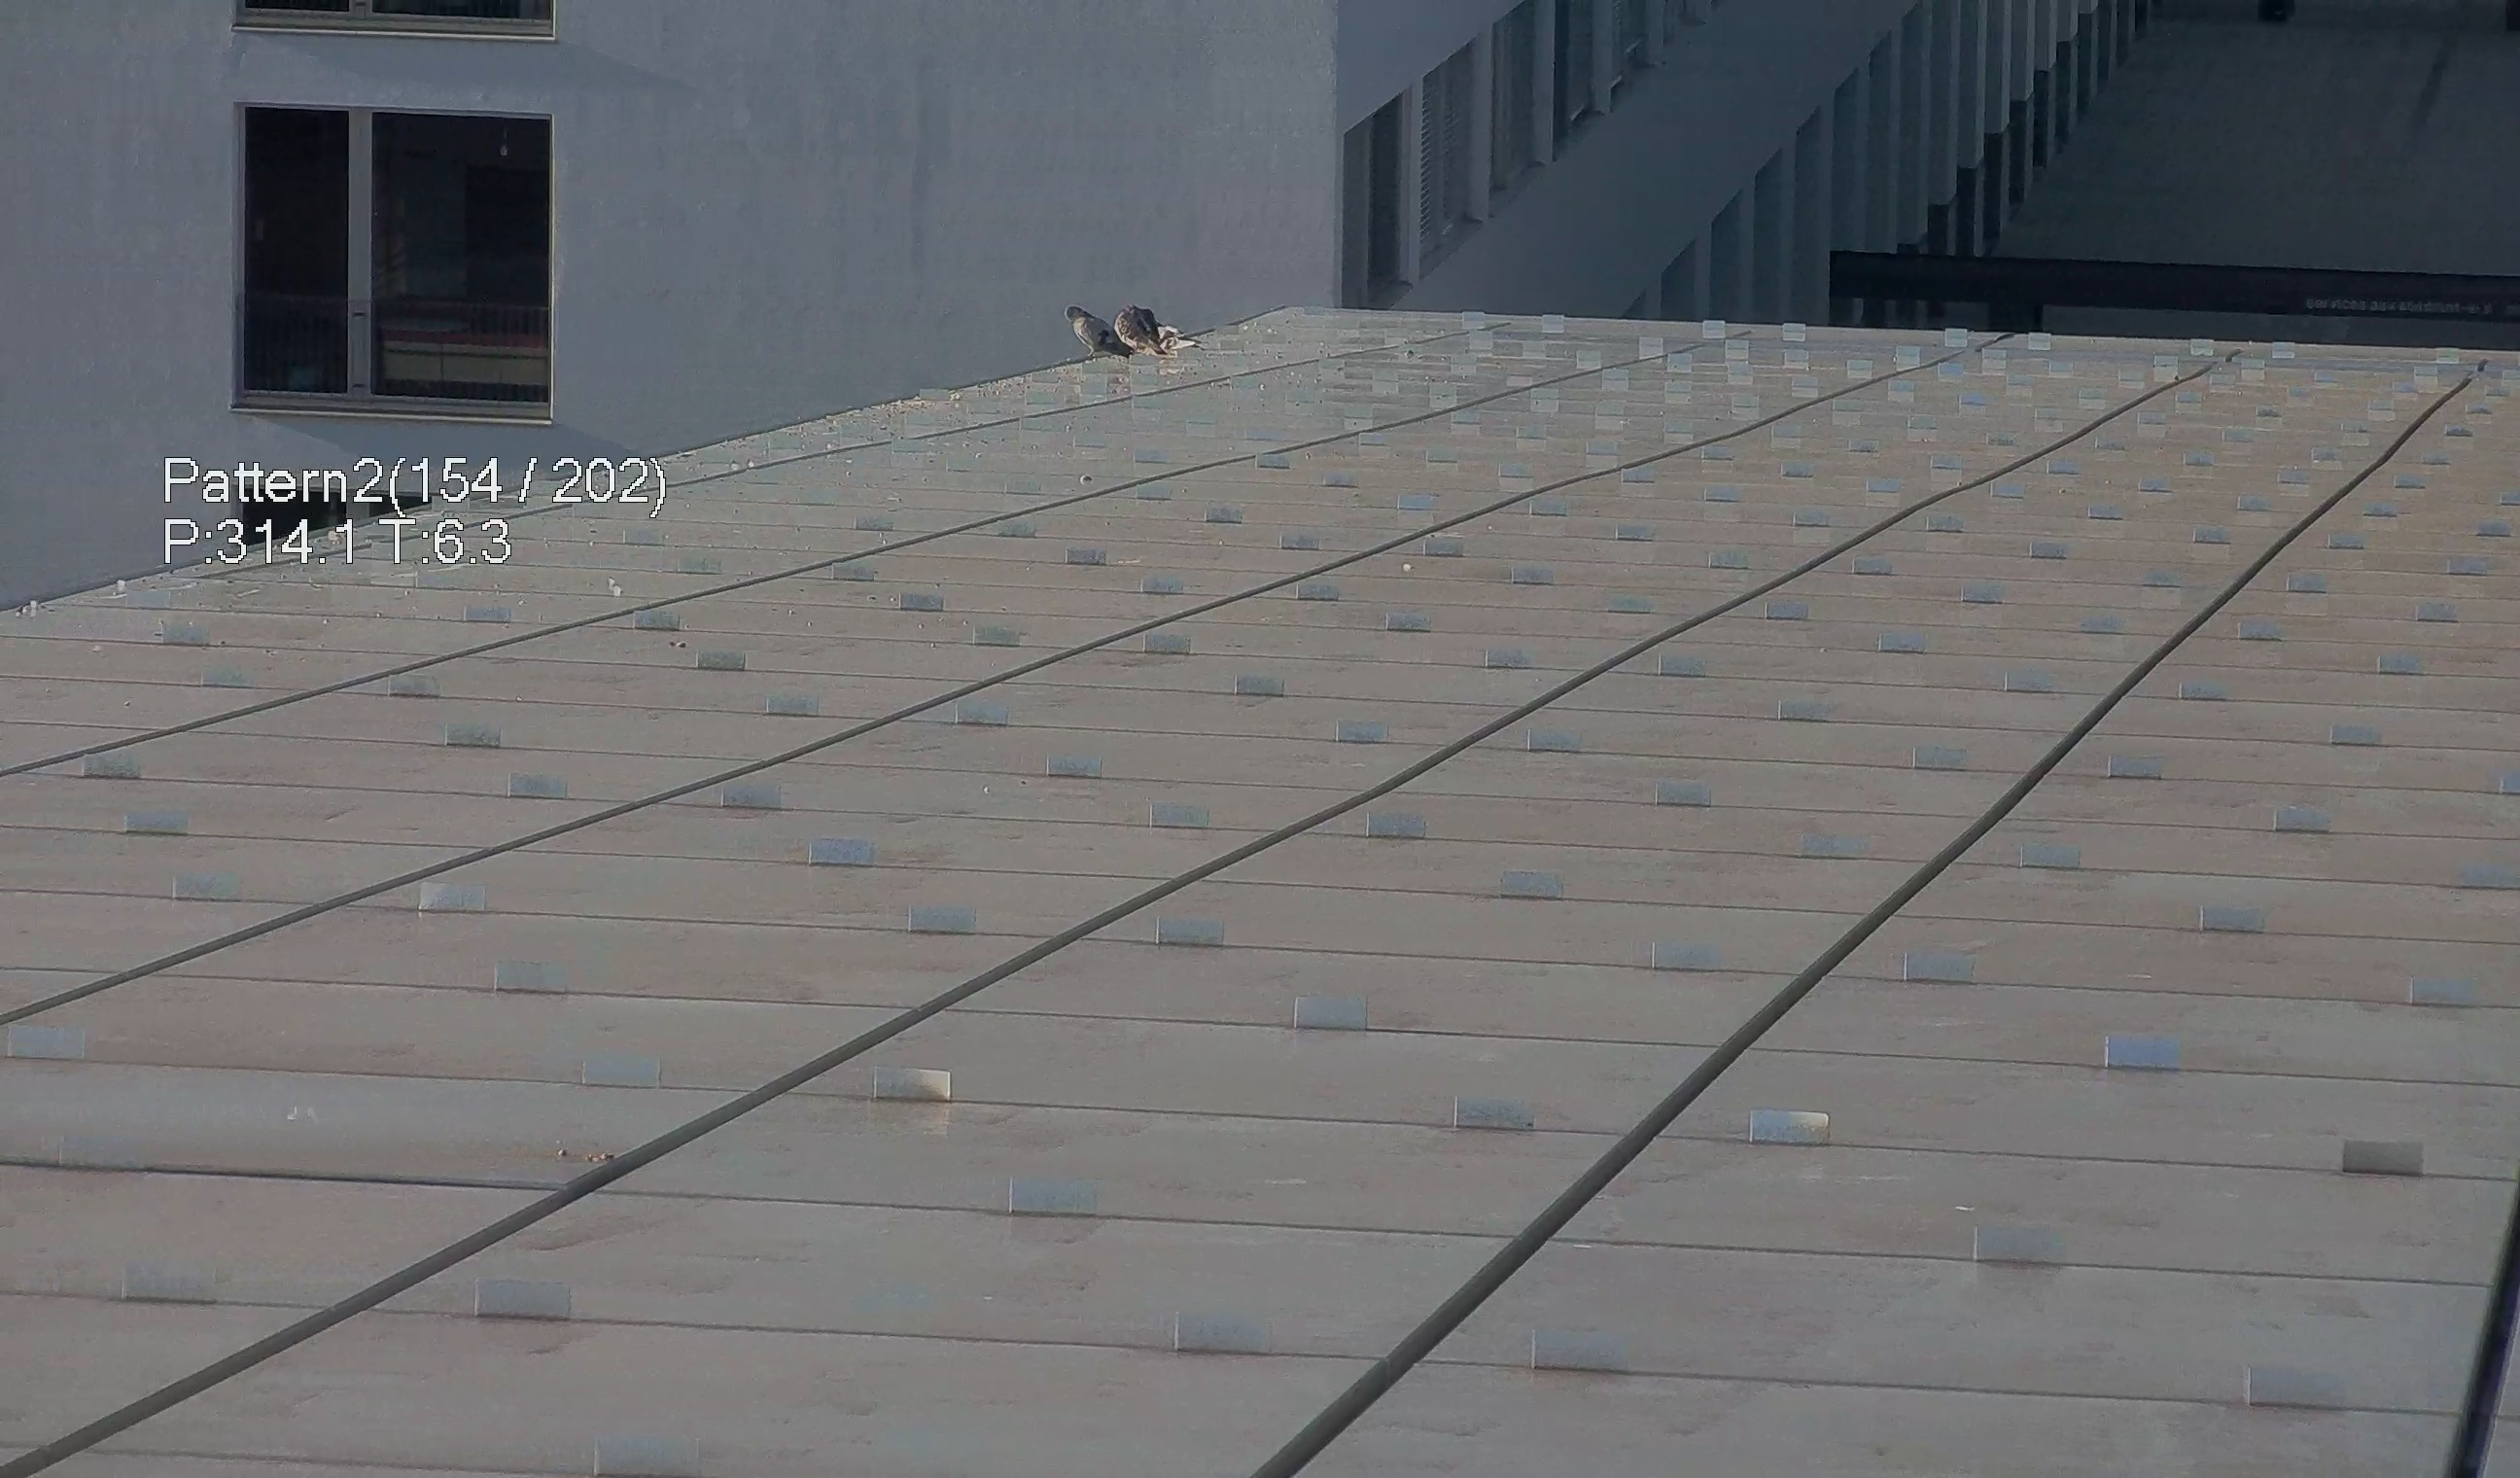Pigeon: (1106, 297, 1199, 362), (1053, 308, 1138, 359)
